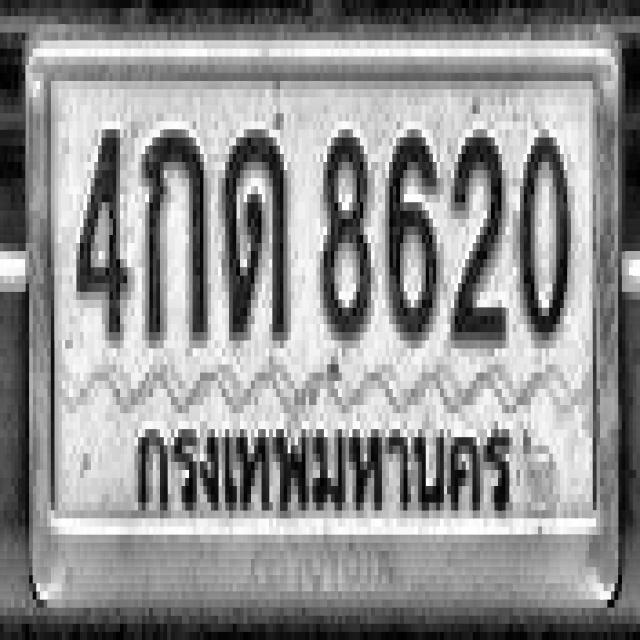license-plate: (26, 28, 624, 614)
